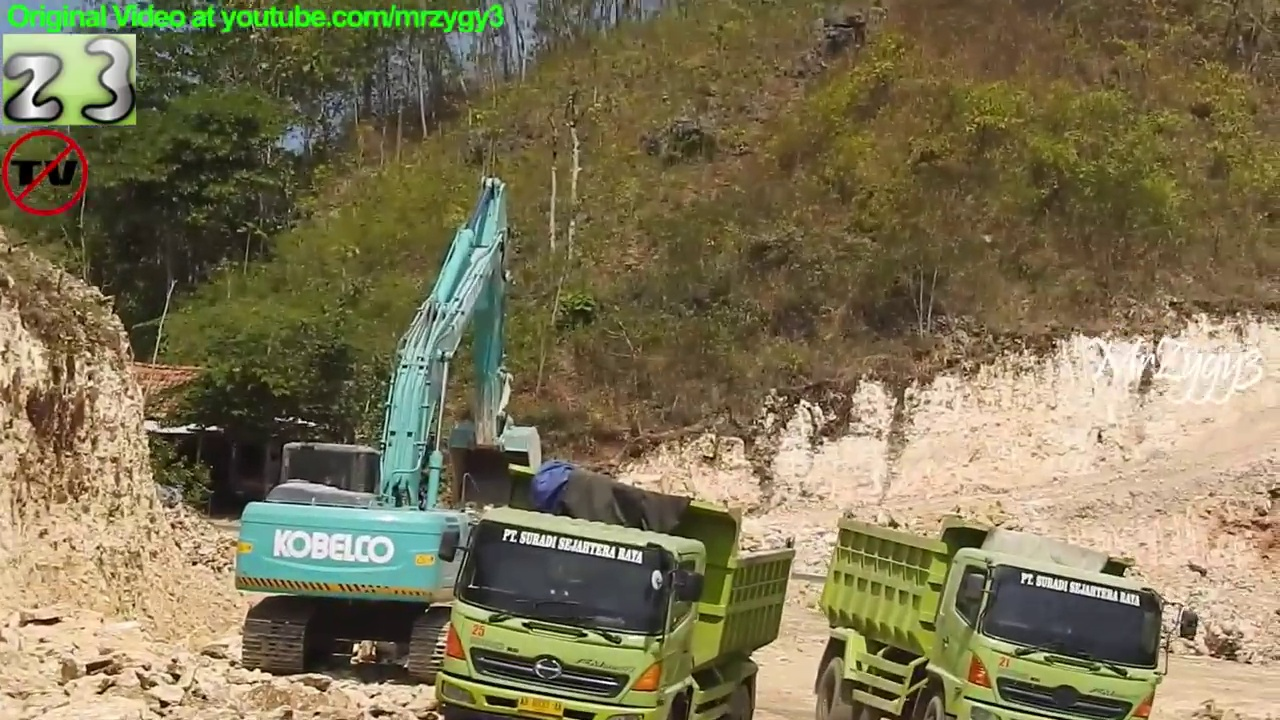excavator: (230, 169, 572, 696)
truck: (426, 458, 805, 720), (810, 506, 1209, 720)
